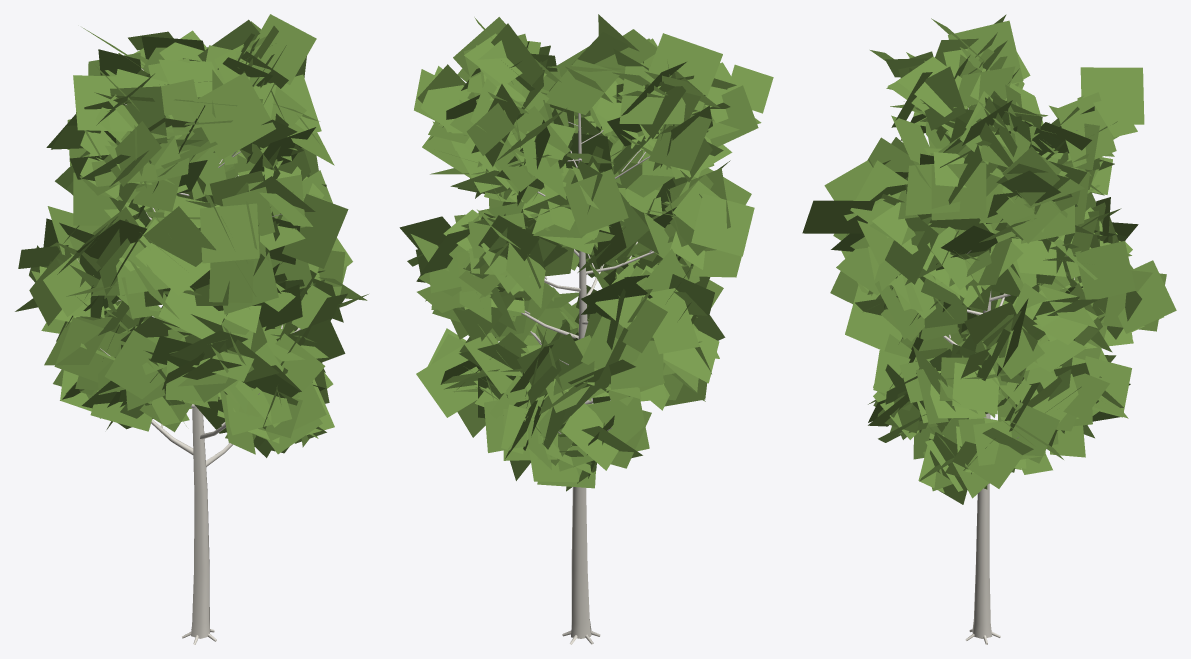
Rendered from birch-1-lod1.glb.
3 views of the same model, side by side, from view 1: azimuth 30°, elevation 25°; view 2: azimuth 150°, elevation 25°; view 3: azimuth 270°, elevation 25° (orthographic). The views are drawn at different scales.
Visible parts, largest first — view 1: birch-1-lod1-foliage, birch-1-lod1-bark; view 2: birch-1-lod1-foliage, birch-1-lod1-bark; view 3: birch-1-lod1-foliage, birch-1-lod1-bark.
Part boxes in pixels (x1,y1,x2,y2): birch-1-lod1-foliage: (15,14,368,457); birch-1-lod1-bark: (77,68,300,644); birch-1-lod1-foliage: (399,14,773,491); birch-1-lod1-bark: (521,113,654,644); birch-1-lod1-foliage: (802,14,1176,504); birch-1-lod1-bark: (943,108,1077,644).
Bounding box in the file's own units: 12.55 × 22.99 × 13.4.
